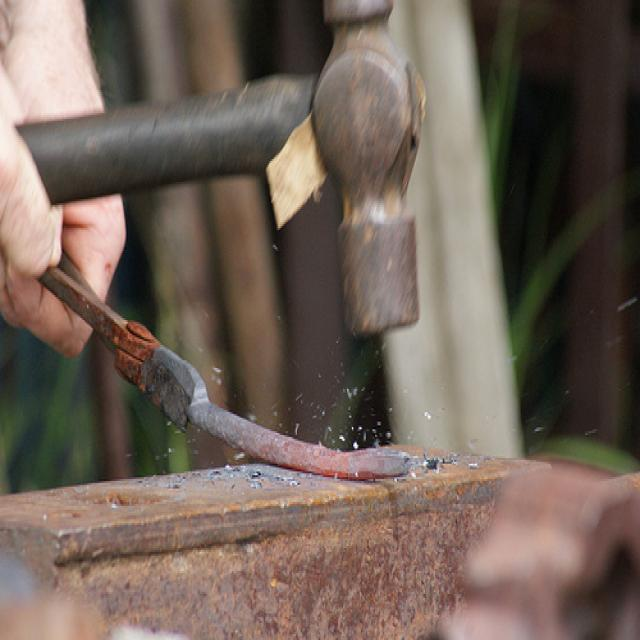hammer: (0, 0, 429, 349)
